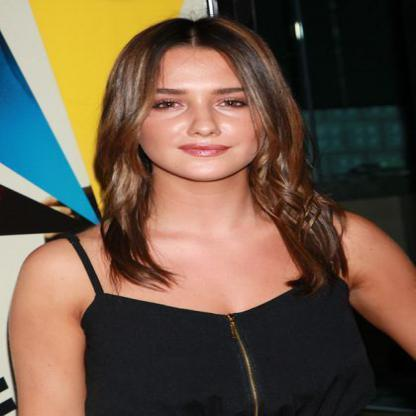long-hair: (91, 184, 324, 224)
